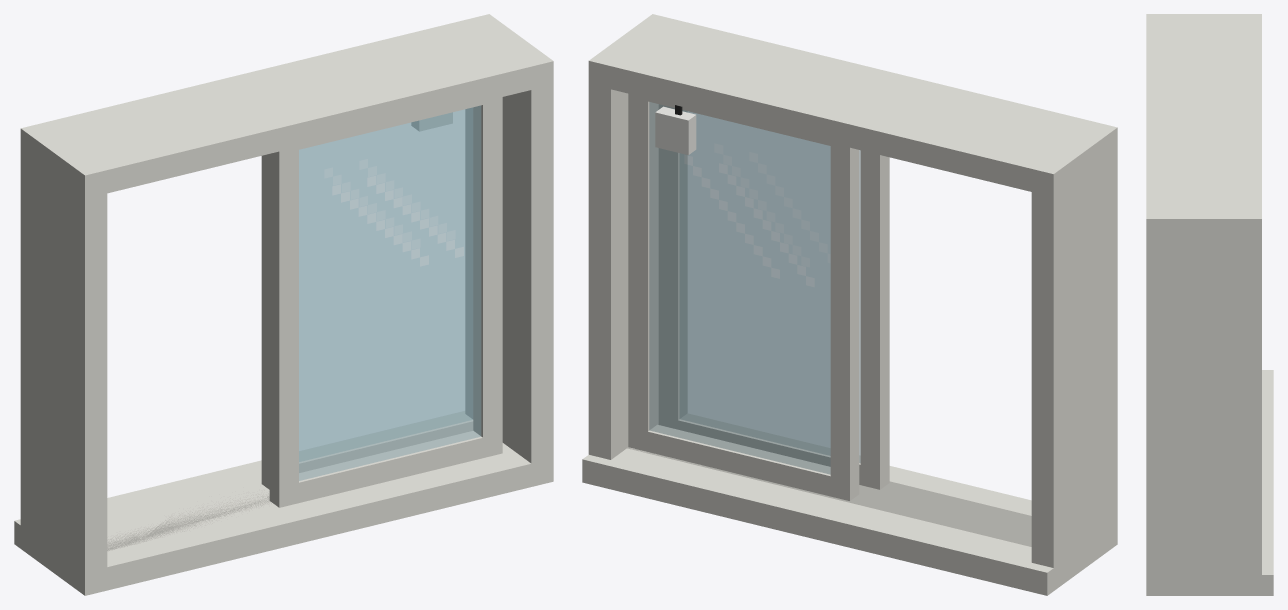
Rendered from t_window_no_curtains_open_alarm.glb.
The picture shows the model from 3 angles, left to right: view 1: azimuth 30°, elevation 25°; view 2: azimuth 150°, elevation 25°; view 3: azimuth 270°, elevation 25°; orthographic projection. The views are drawn at different scales.
Parts seen in each view (by area): view 1: block_slider-glass, block_fixed-glass, block_lintel, block_stile-1, block_sill, block_stile1, block_slider-l, block_slider-r, block_slider-bottom, block_fixed-bottom, block_fixed-l, block_fixed-r (+2 smaller); view 2: block_fixed-glass, block_slider-glass, block_lintel, block_stile-1, block_sill, block_stile1, block_fixed-l, block_fixed-r, block_slider-l, block_slider-r, block_fixed-bottom, block_track (+3 smaller); view 3: block_stile1, block_lintel, block_sill, block_stile-1.
Part boxes in pixels (bbox=[...]): block_slider-glass: bbox=[299, 105, 481, 480]; block_fixed-glass: bbox=[299, 108, 472, 461]; block_lintel: bbox=[20, 14, 553, 198]; block_stile-1: bbox=[20, 123, 107, 595]; block_sill: bbox=[14, 411, 553, 595]; block_stile1: bbox=[471, 14, 553, 486]; block_slider-l: bbox=[269, 150, 298, 507]; block_slider-r: bbox=[473, 97, 502, 456]; block_slider-bottom: bbox=[269, 431, 502, 507]; block_fixed-bottom: bbox=[261, 414, 473, 489]; block_fixed-l: bbox=[261, 154, 269, 489]; block_fixed-r: bbox=[465, 108, 472, 418]; block_fixed-glass: bbox=[649, 102, 830, 474]; block_slider-glass: bbox=[680, 110, 860, 462]; block_lintel: bbox=[588, 14, 1117, 197]; block_stile-1: bbox=[1031, 122, 1117, 590]; block_sill: bbox=[582, 448, 1117, 595]; block_stile1: bbox=[588, 15, 673, 459]; block_fixed-l: bbox=[830, 143, 859, 500]; block_fixed-r: bbox=[628, 94, 657, 448]; block_slider-l: bbox=[860, 150, 889, 489]; block_slider-r: bbox=[658, 104, 687, 428]; block_fixed-bottom: bbox=[628, 425, 859, 500]; block_track: bbox=[627, 447, 1031, 546]; block_stile1: bbox=[1146, 209, 1261, 595]; block_lintel: bbox=[1146, 14, 1261, 239]; block_sill: bbox=[1146, 370, 1273, 595]; block_stile-1: bbox=[1146, 14, 1261, 23].
Bounding box in the file's own units: 0.84 × 0.72 × 0.22.
2 materials, 2 textured.
